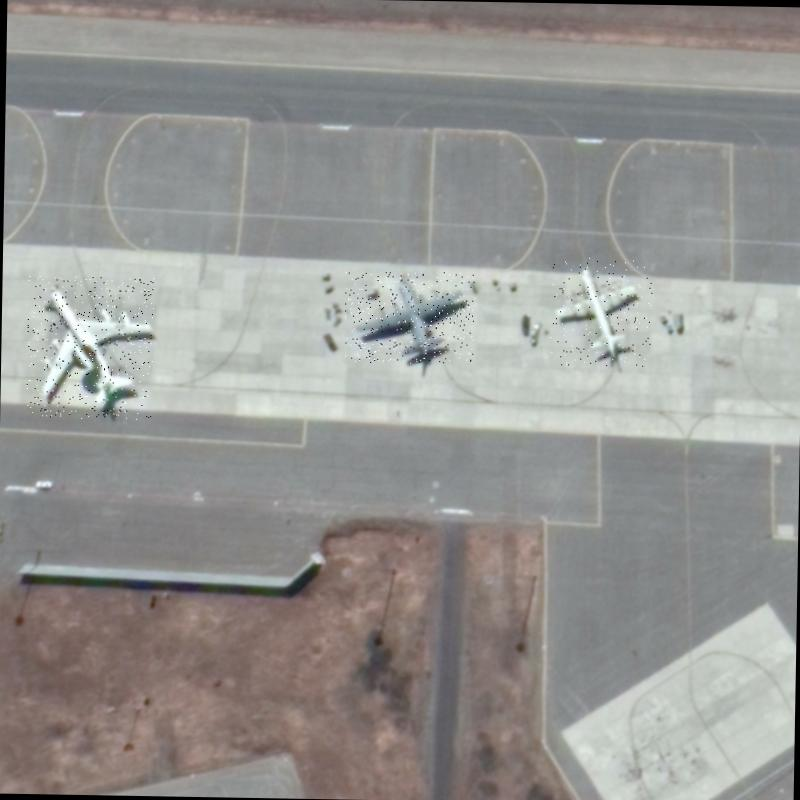A2: (343, 270, 476, 364)
A7: (26, 276, 154, 420)
A9: (548, 257, 652, 366)
